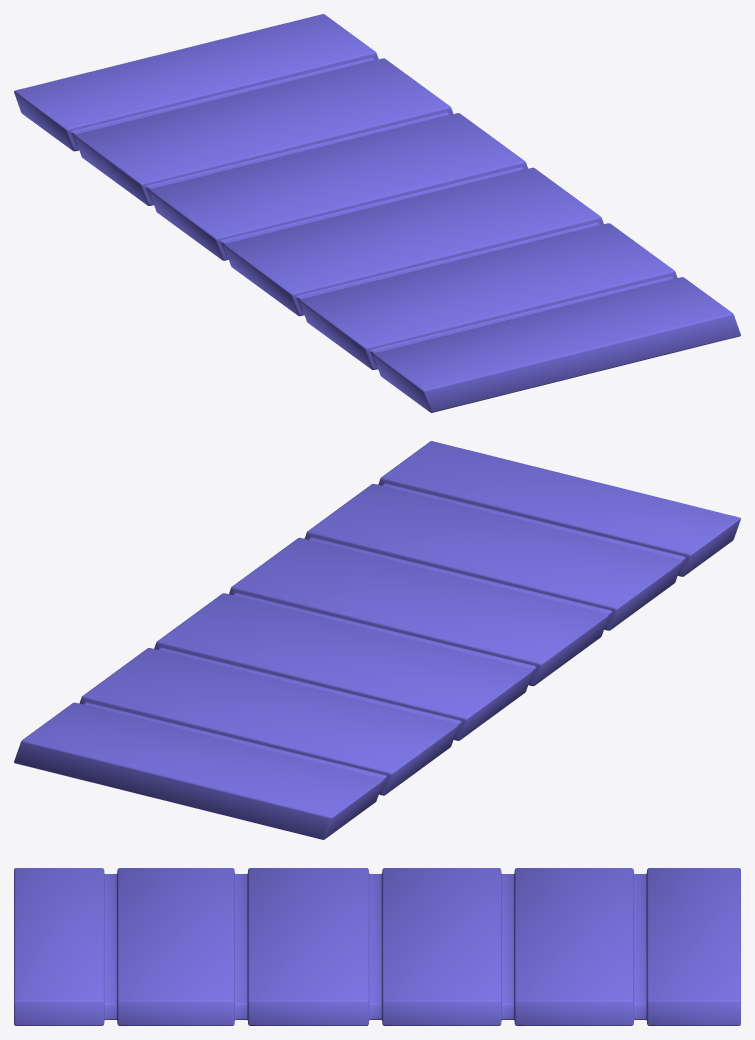
The model's file is FM_H_SH_01_Side_Shed_001.fbx.
The picture shows the model from 3 angles, top to bottom: view 1: azimuth 30°, elevation 25°; view 2: azimuth 150°, elevation 25°; view 3: azimuth 270°, elevation 25°; orthographic projection. The views are drawn at different scales.
Parts seen in each view (by area): view 1: FM_H_SH_01_Side_Shed_001; view 2: FM_H_SH_01_Side_Shed_001; view 3: FM_H_SH_01_Side_Shed_001.
Part boxes in pixels (box(x1,y1,x2,y2)): FM_H_SH_01_Side_Shed_001: box(14, 14, 740, 412); FM_H_SH_01_Side_Shed_001: box(14, 441, 740, 839); FM_H_SH_01_Side_Shed_001: box(14, 868, 740, 1025).
Size of the model in its own units: 3.54 by 0.2844 by 7.91.
